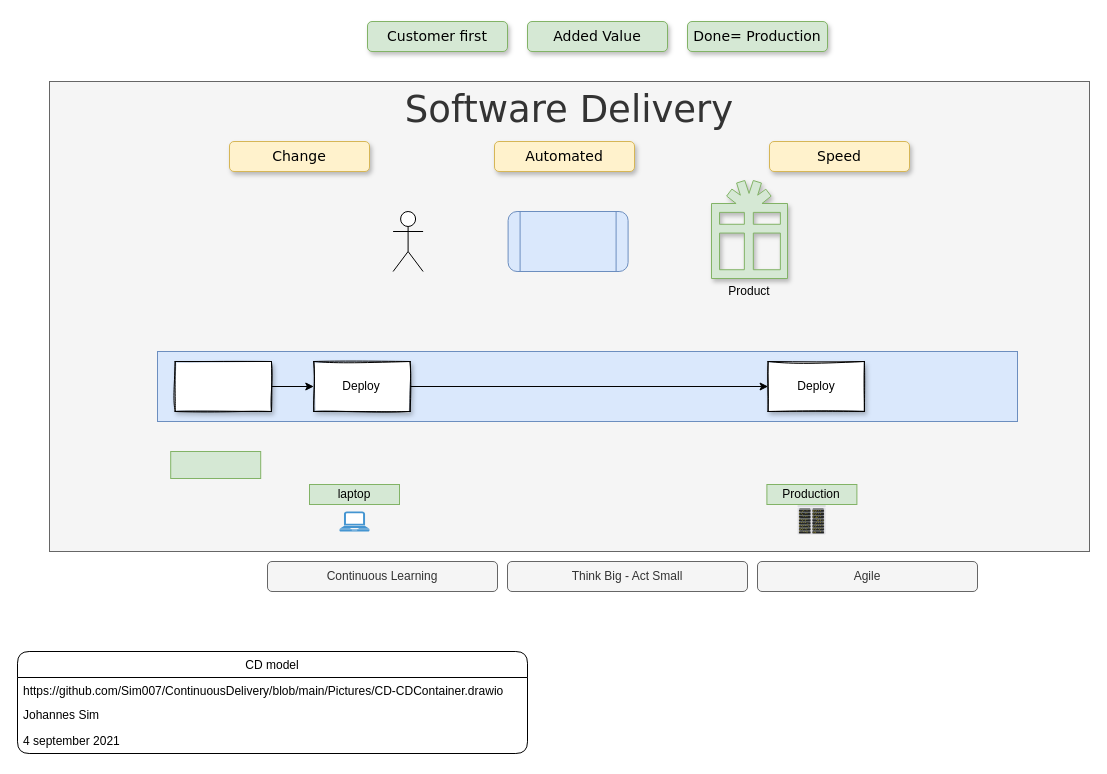
This 1107x774 diagram has some shape labels left out. The centre of each missing label's shape, as x and y in pixels:
"Build" goes at pixel 224 387.
"People" goes at pixel 407 241.
"Process" goes at pixel 567 241.
"Software container" goes at pixel 215 464.
